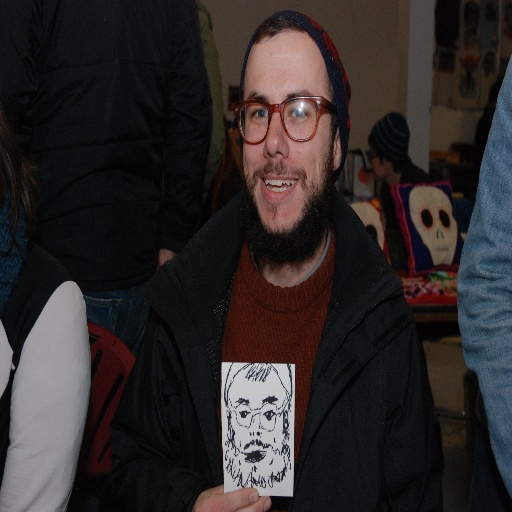hand: (194, 482, 270, 511), (157, 248, 178, 271)
